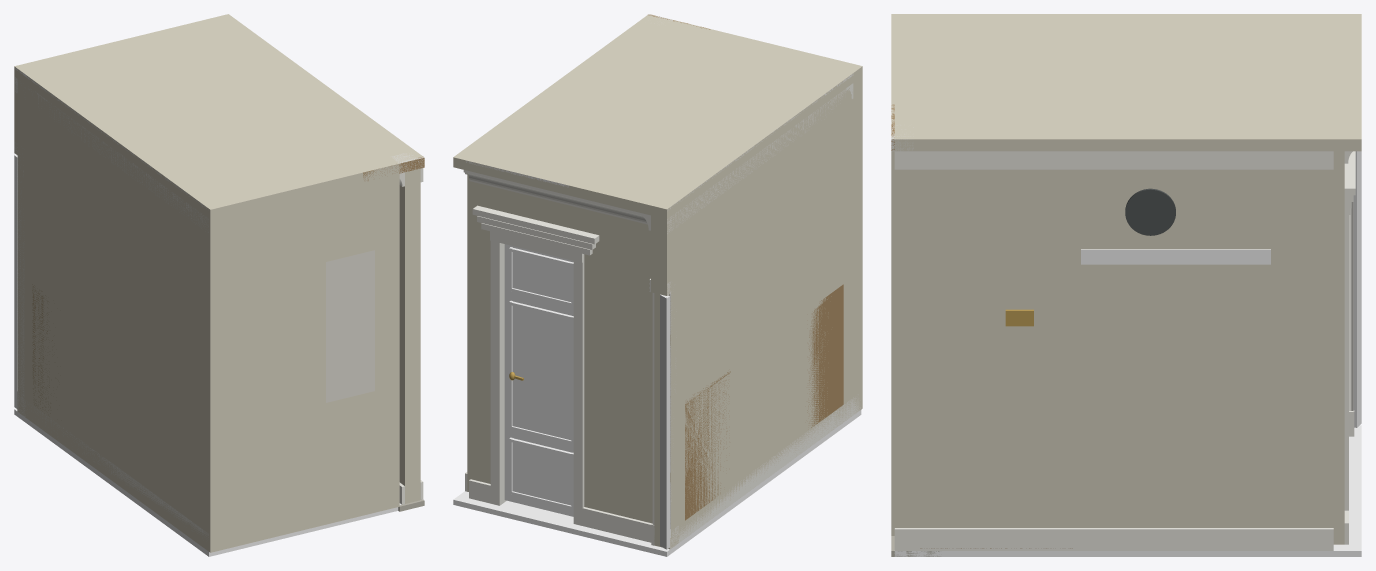
3 views of the same model, side by side, from view 1: azimuth 30°, elevation 25°; view 2: azimuth 150°, elevation 25°; view 3: azimuth 270°, elevation 25° (orthographic). The views are drawn at different scales.
Visible parts, largest first — view 1: Family cloakroom partition | end.001, Cloakroom | ceiling.001, Proposal revision | House front centre | corrected wall 1.00, Proposal revision | House front centre | corrected wall 0.00, Bedroom 4 en suite | floor.001, Proposal revision | House front centre | corrected wall 4.00, Cloakroom east | end.001, Proposal | Bricked-up front centre window.001, Proposal revision | House front centre | corrected wall 2.00, Proposal revision | Exterior brick floor band First front.00 (×2), Family room | ceiling.001, Proposal revision | House front centre | corrected wall 3.00 (+9 smaller); view 2: Family cloakroom partition | end.001, Cloakroom | ceiling.001, Cloakroom hall door | pier 0.001, Bedroom 4 en suite | floor.001, Photo detail | Cloakroom hall door leaf 1 raised panel.010, Entrance hall ceiling west.001, Cloakroom hall door | end.001, Family hall door | end.001, Cloakroom hall door | door architrave.003, Bedroom 4 | floor.001, Proposal | Office dado panelling east south.001, Proposal | Office dado panelling east middle.001 (+22 smaller); view 3: Cloakroom east | end.001, Cloakroom | ceiling.001, Bedroom 4 en suite | floor.001, Entrance hall ceiling west.001, Cloakroom east | skirting end1.001, Circulation detail | Cove Cloakroom east 1.001, Cloakroom hall door | end.001, Entrance hall | floor.001, Landing | floor.001, Hall small fitting | Coat rack board.001, Bedroom 4 | floor.001, Photo detail | Family hall door leaf 2 panelled leaf.001 (+6 smaller).
Boxes of the visible parts, box(x1,y1,x2,y2) form: Family cloakroom partition | end.001: box(26, 85, 208, 551); Cloakroom | ceiling.001: box(34, 25, 411, 206); Proposal revision | House front centre | corrected wall 1.00: box(262, 191, 325, 540); Proposal revision | House front centre | corrected wall 0.00: box(207, 207, 261, 552); Bedroom 4 en suite | floor.001: box(58, 17, 402, 205); Proposal revision | House front centre | corrected wall 4.00: box(375, 173, 399, 512); Cloakroom east | end.001: box(399, 168, 420, 503); Proposal | Bricked-up front centre window.001: box(326, 250, 374, 402); Proposal revision | House front centre | corrected wall 2.00: box(326, 391, 374, 524); Proposal revision | Exterior brick floor band First front.00 (×2): box(206, 157, 399, 219); Family room | ceiling.001: box(14, 64, 216, 218); Proposal revision | House front centre | corrected wall 3.00: box(326, 179, 374, 261); Family cloakroom partition | end.001: box(678, 88, 859, 540); Cloakroom | ceiling.001: box(475, 17, 852, 198); Cloakroom hall door | pier 0.001: box(580, 208, 652, 523); Bedroom 4 en suite | floor.001: box(466, 18, 857, 187); Photo detail | Cloakroom hall door leaf 1 raised panel.010: box(512, 306, 571, 440); Entrance hall ceiling west.001: box(453, 15, 669, 217); Cloakroom hall door | end.001: box(470, 181, 496, 483); Family hall door | end.001: box(654, 211, 678, 549); Cloakroom hall door | door architrave.003: box(490, 241, 506, 505); Bedroom 4 | floor.001: box(569, 66, 859, 210); Proposal | Office dado panelling east south.001: box(807, 288, 843, 427); Proposal | Office dado panelling east middle.001: box(685, 380, 729, 520); Cloakroom east | end.001: box(894, 169, 1333, 527); Cloakroom | ceiling.001: box(894, 18, 1333, 133); Bedroom 4 en suite | floor.001: box(894, 15, 1361, 131); Entrance hall ceiling west.001: box(894, 18, 1361, 151); Cloakroom east | skirting end1.001: box(894, 528, 1333, 550); Circulation detail | Cove Cloakroom east 1.001: box(894, 151, 1333, 169); Cloakroom hall door | end.001: box(1333, 151, 1344, 544); Entrance hall | floor.001: box(894, 430, 1361, 556); Landing | floor.001: box(894, 132, 1361, 141); Hall small fitting | Coat rack board.001: box(1081, 249, 1270, 264); Bedroom 4 | floor.001: box(896, 14, 1361, 71); Photo detail | Family hall door leaf 2 panelled leaf.001: box(1353, 151, 1361, 427).
Bounding box in the file's own units: 1.75 × 2.72 × 2.78.
